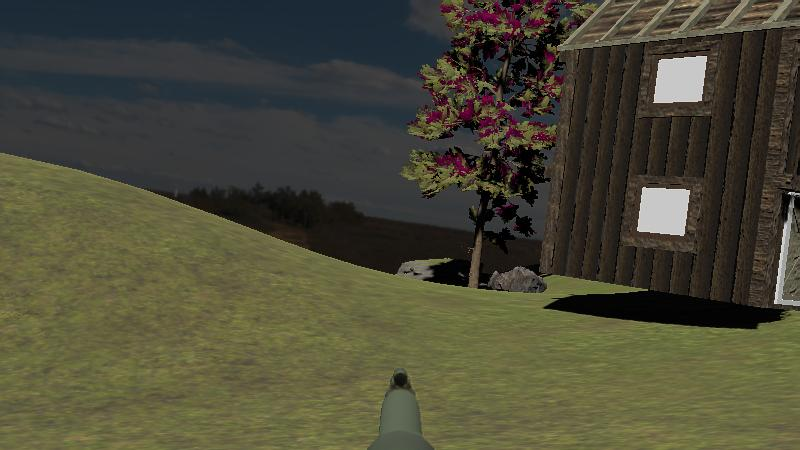House: (550, 0, 800, 319)
